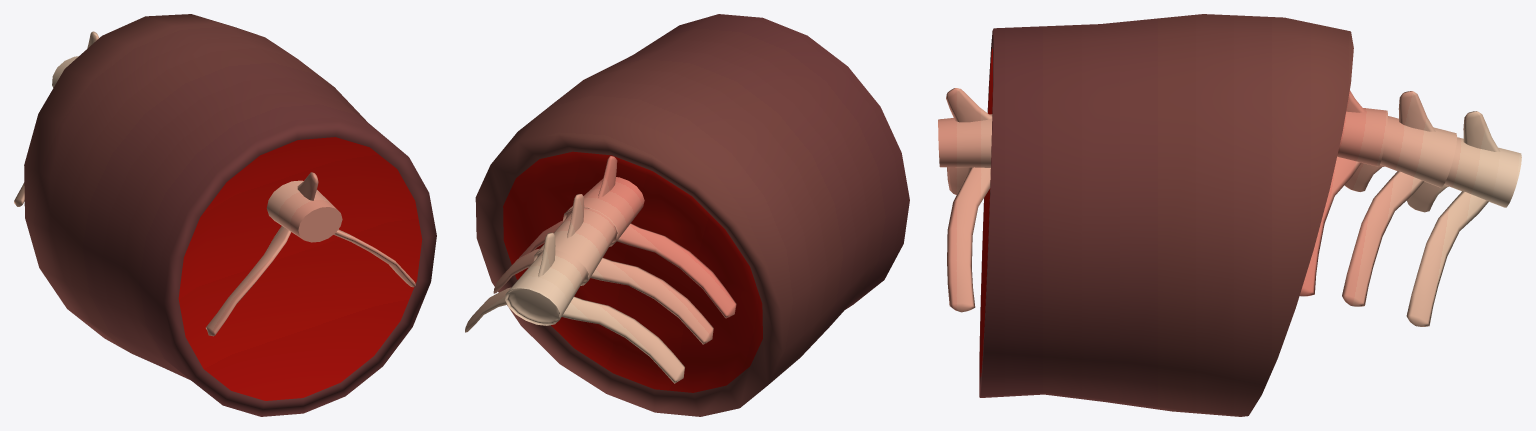
Rendered from Dog_Heart_Source_1_Adjusted.fbx.
The picture shows the model from 3 angles, left to right: view 1: azimuth 30°, elevation 25°; view 2: azimuth 150°, elevation 25°; view 3: azimuth 270°, elevation 25°; orthographic projection. The views are drawn at different scales.
Parts seen in each view (by area): view 1: Dog_Heart_Source_1_Adjusted; view 2: Dog_Heart_Source_1_Adjusted; view 3: Dog_Heart_Source_1_Adjusted.
Part boxes in pixels (x1=…): Dog_Heart_Source_1_Adjusted: x1=14, y1=14, x2=436, y2=416; Dog_Heart_Source_1_Adjusted: x1=465, y1=14, x2=909, y2=416; Dog_Heart_Source_1_Adjusted: x1=938, y1=14, x2=1521, y2=416.
Size of the model in its own units: 30.02 by 30.15 by 43.26.
